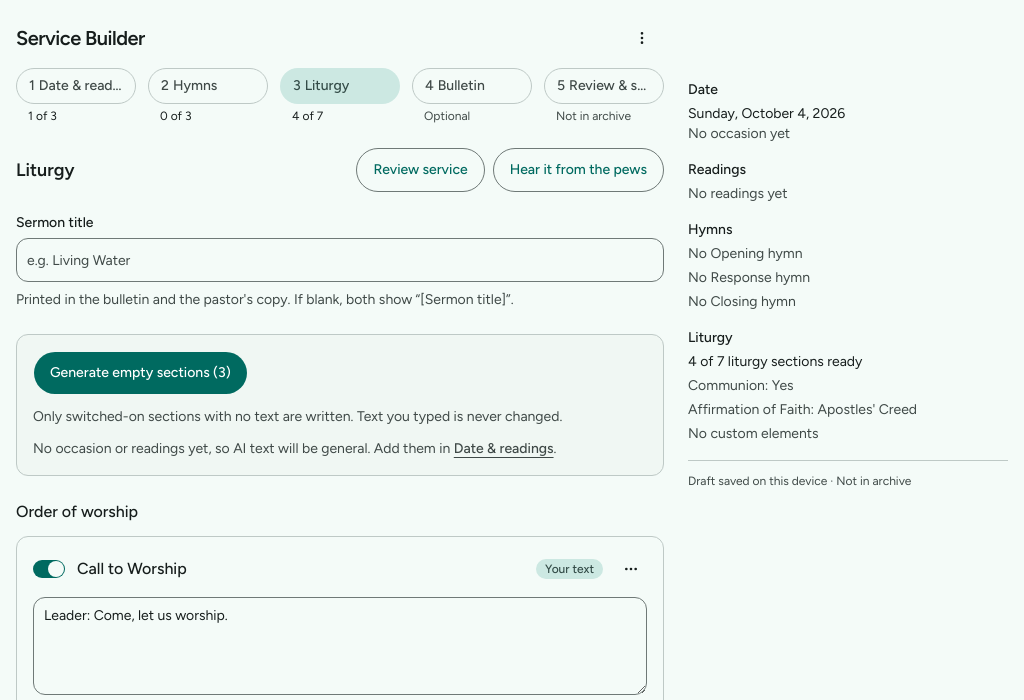
it: Hear it from the pews (pew voices spec) › says No reactions this time. for an empty answer, and shows a failure's message
Step 1. Click the button "Hear it from the pews" → (578, 170), box [493,148,664,192]
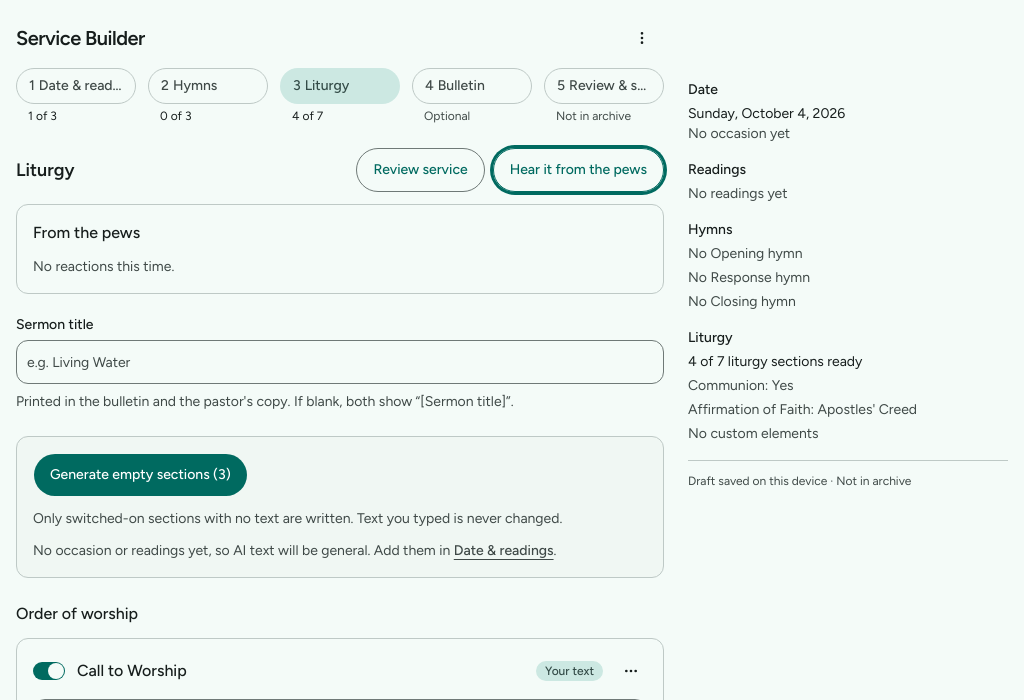
Expected: the text "No reactions this time." is shown, [33,258,174,275]
Step 2. Click the button "Hear it from the pews" → (578, 170), box [493,148,664,192]
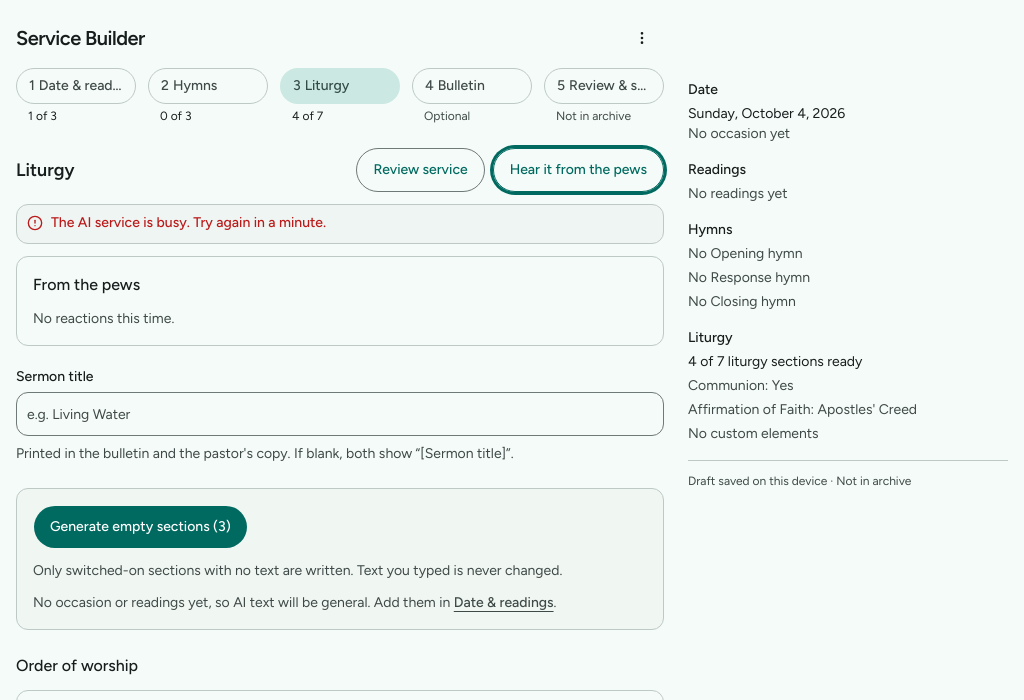
Expected: the text "No reactions this time." is shown, [33,310,174,327]
Expected: the message reads "The AI service is busy. Try again in a minute.", [51,214,326,231]
